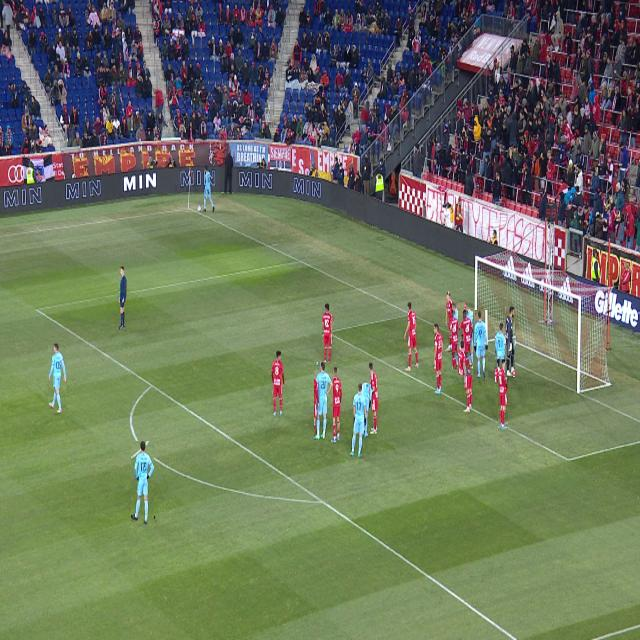football: (197, 205, 201, 212)
goalkeeper: (506, 307, 515, 377)
player: (132, 441, 154, 525), (315, 362, 333, 440), (49, 344, 66, 414), (350, 384, 366, 458), (404, 302, 419, 372), (329, 367, 342, 442), (458, 310, 473, 375), (474, 310, 488, 379), (452, 303, 466, 369), (271, 351, 284, 417), (463, 339, 473, 413), (433, 323, 443, 394), (495, 324, 507, 382), (369, 362, 378, 434), (499, 360, 508, 431), (323, 304, 333, 366), (361, 382, 372, 437), (445, 291, 455, 351)
referee: (118, 267, 127, 330)
